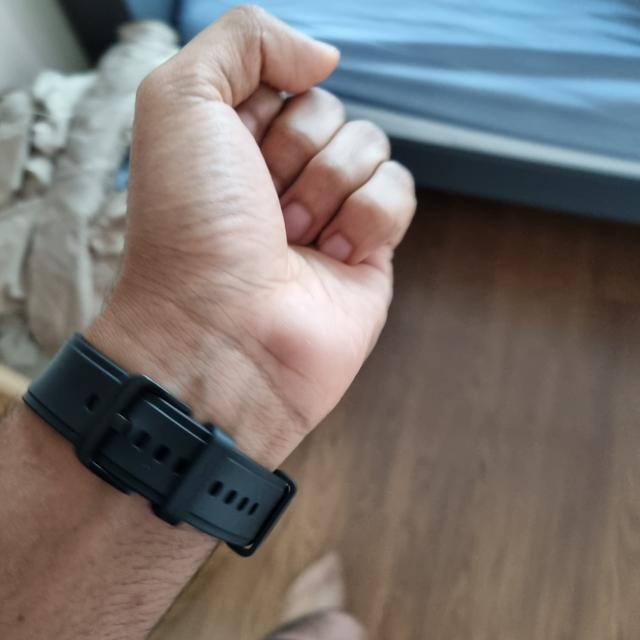Rock: (106, 5, 413, 462)
